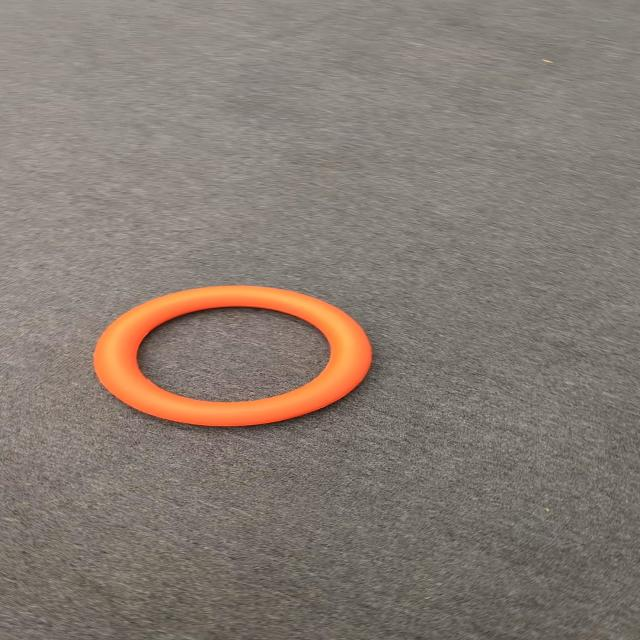note: (99, 290, 378, 425)
